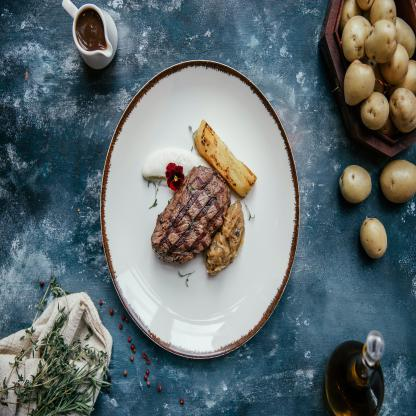Carne: (143, 165, 233, 264)
